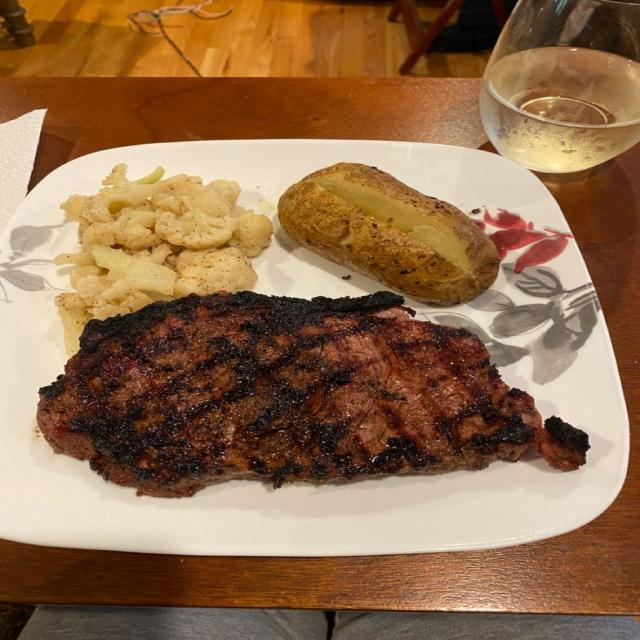beef steak: (37, 292, 589, 496)
boiled potato: (278, 163, 499, 304)
cauliflower: (55, 163, 272, 353), (90, 245, 176, 295), (174, 248, 257, 296), (156, 209, 231, 249)
